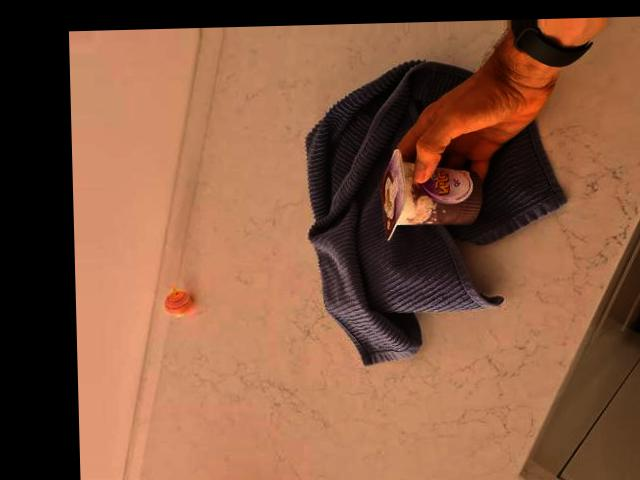milky: (375, 152, 484, 238)
